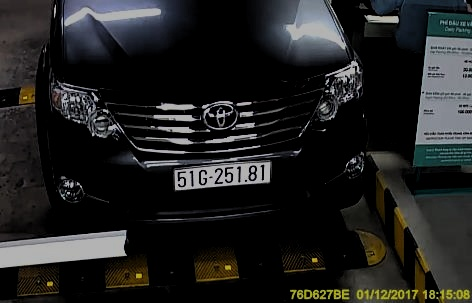plate: (172, 158, 274, 193)
